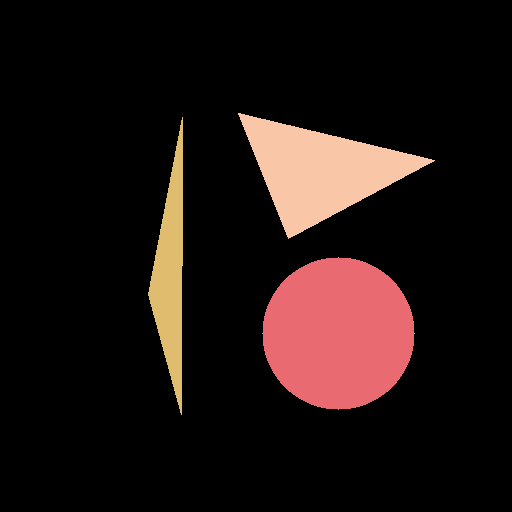circle: (262, 257, 414, 409)
triangle: (238, 113, 434, 238), (148, 117, 182, 414)
